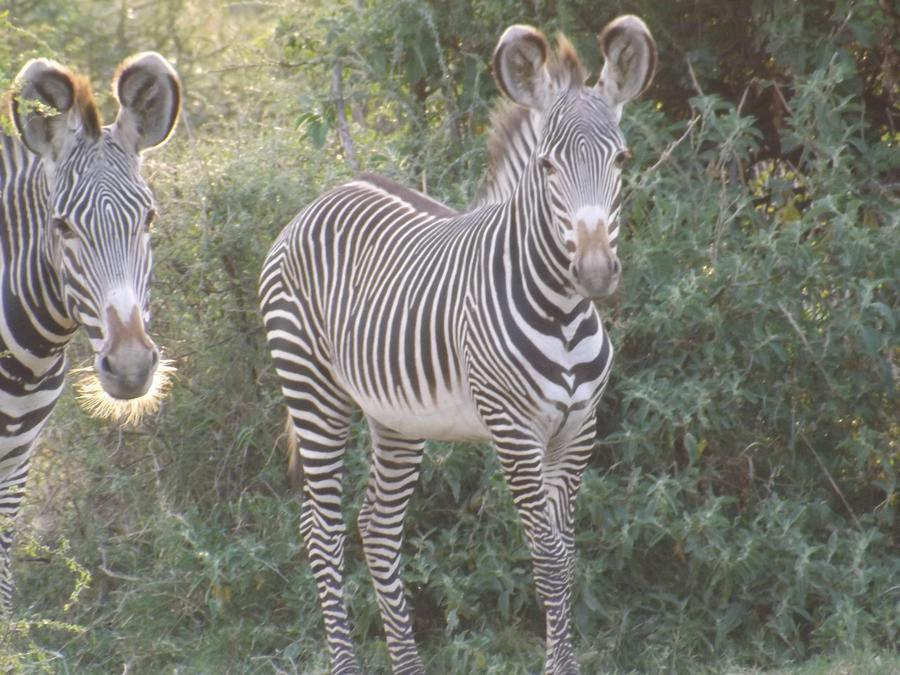zebra_grevys: (258, 157, 564, 433)
